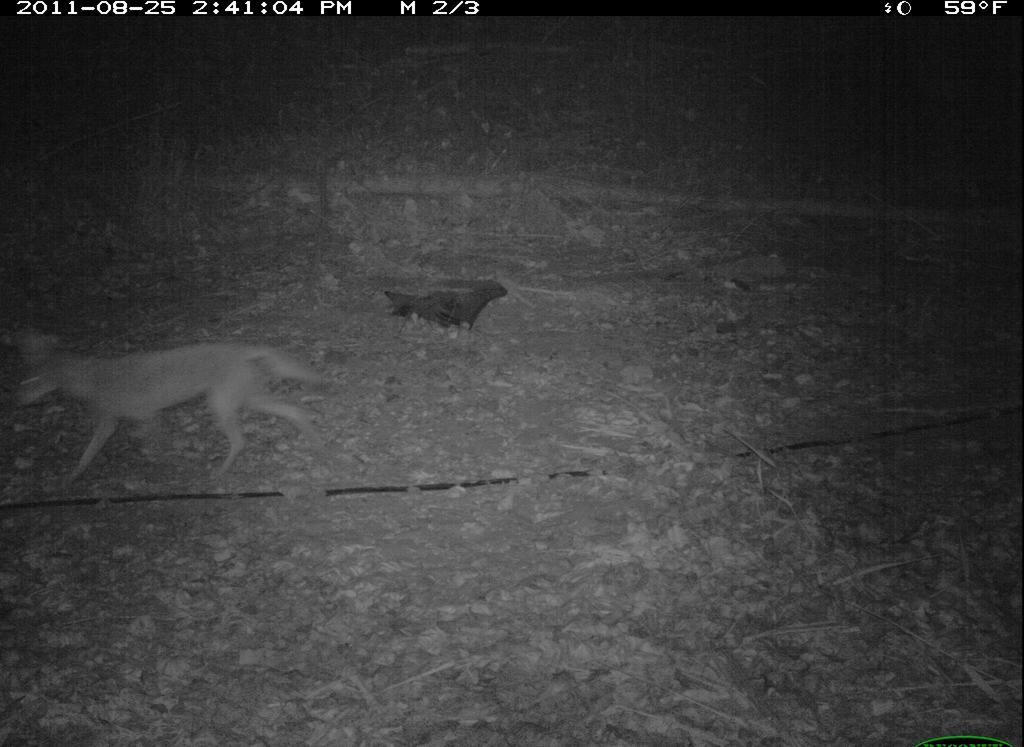coyote: (11, 329, 344, 493)
